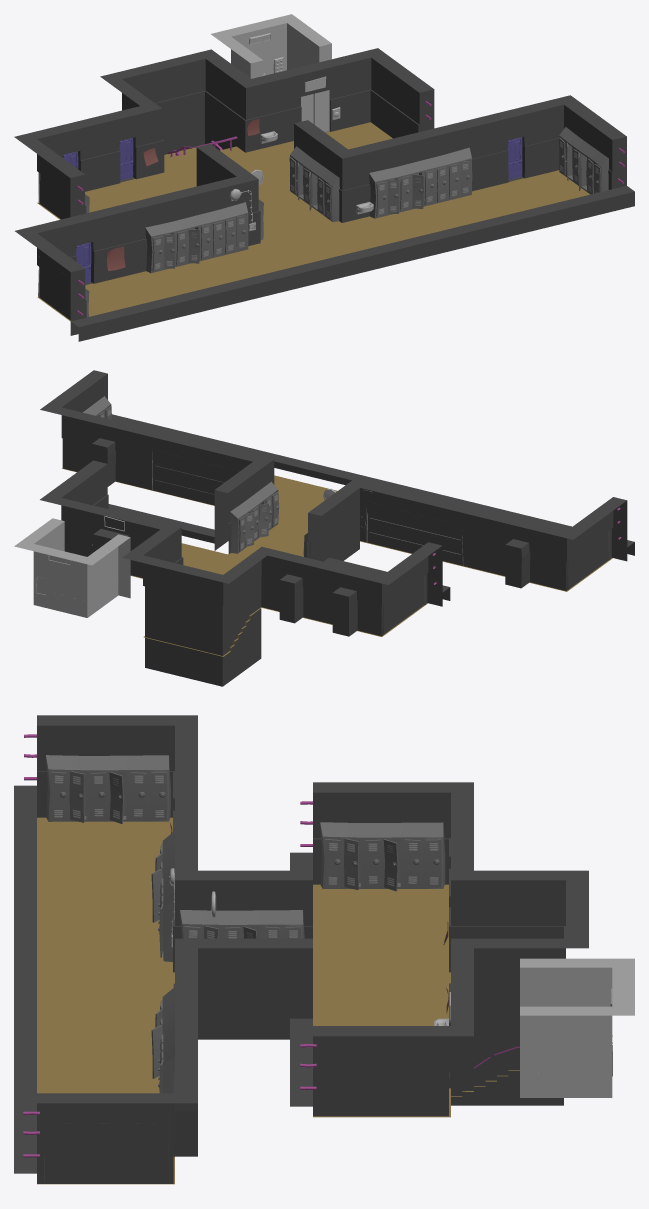
Rendered from SecondFloor.fbx.
3 renders of one model, top to bottom at view 1: azimuth 30°, elevation 25°; view 2: azimuth 150°, elevation 25°; view 3: azimuth 270°, elevation 25°, orthographic. The views are drawn at different scales.
Parts seen in each view (by area): view 1: BackWall, FrontHallwayWalls, Floor, ShortWalls, ElevatorSpace, Lockers1, Lockers, LockersShort1, LockersShort4, SecondHinge (×2), RightLiftDoor; view 2: FrontHallwayWalls, BackWall, ElevatorSpace, ShortWalls, Floor, LockersShort1; view 3: Floor, FrontHallwayWalls, BackWall, ElevatorSpace, ShortWalls, LockersShort2, LockersShort3, LockersShort, OpenLockerDoor1 (×2), Lockers1, Lockers, OpenLockerDoor2 (×2).
Boxes of the visible parts, bbox=[...] form: BackWall: bbox=[14, 48, 434, 219]; FrontHallwayWalls: bbox=[15, 95, 626, 335]; Floor: bbox=[37, 122, 589, 321]; ShortWalls: bbox=[71, 185, 634, 341]; ElevatorSpace: bbox=[211, 14, 331, 78]; Lockers1: bbox=[145, 202, 248, 273]; Lockers: bbox=[369, 147, 472, 218]; LockersShort1: bbox=[289, 146, 339, 221]; LockersShort4: bbox=[559, 127, 609, 194]; SecondHinge (×2): bbox=[119, 137, 522, 180]; RightLiftDoor: bbox=[313, 90, 329, 132]; FrontHallwayWalls: bbox=[40, 370, 627, 590]; BackWall: bbox=[40, 460, 442, 686]; ElevatorSpace: bbox=[14, 518, 130, 617]; ShortWalls: bbox=[108, 414, 634, 600]; Floor: bbox=[62, 468, 612, 636]; LockersShort1: bbox=[230, 481, 279, 553]; Floor: bbox=[37, 817, 450, 1184]; FrontHallwayWalls: bbox=[37, 715, 312, 1183]; BackWall: bbox=[313, 782, 588, 1116]; ElevatorSpace: bbox=[520, 958, 634, 1097]; ShortWalls: bbox=[14, 785, 312, 1173]; LockersShort2: bbox=[320, 822, 445, 888]; LockersShort3: bbox=[46, 755, 170, 821]; LockersShort: bbox=[180, 910, 304, 938]; OpenLockerDoor1 (×2): bbox=[69, 771, 358, 889]; Lockers1: bbox=[158, 831, 174, 961]; Lockers: bbox=[158, 987, 174, 1093]; OpenLockerDoor2 (×2): bbox=[109, 771, 398, 891].
Size of the model in its own units: 39.92 by 8.06 by 27.
